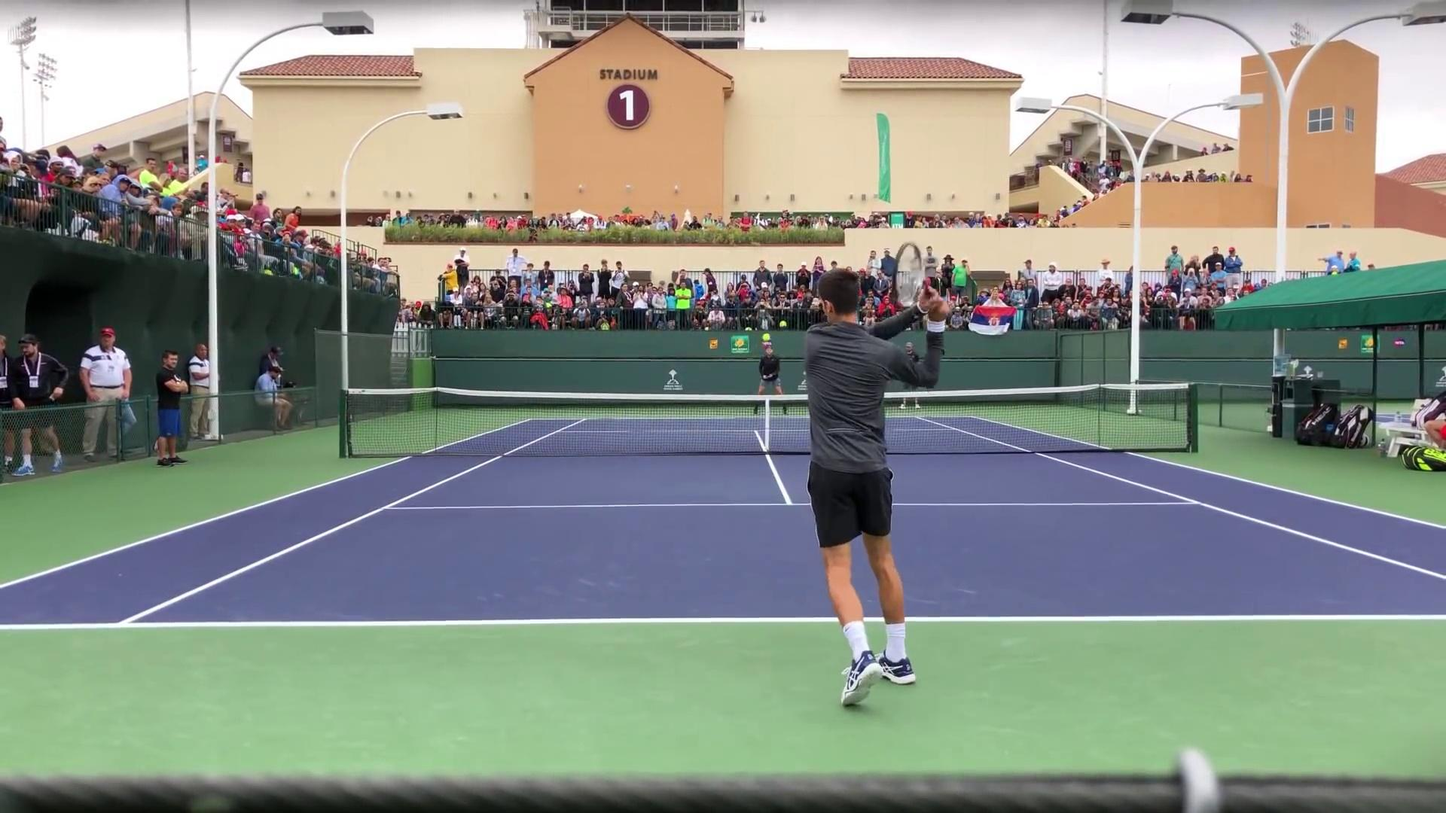ball: (761, 332, 770, 341)
